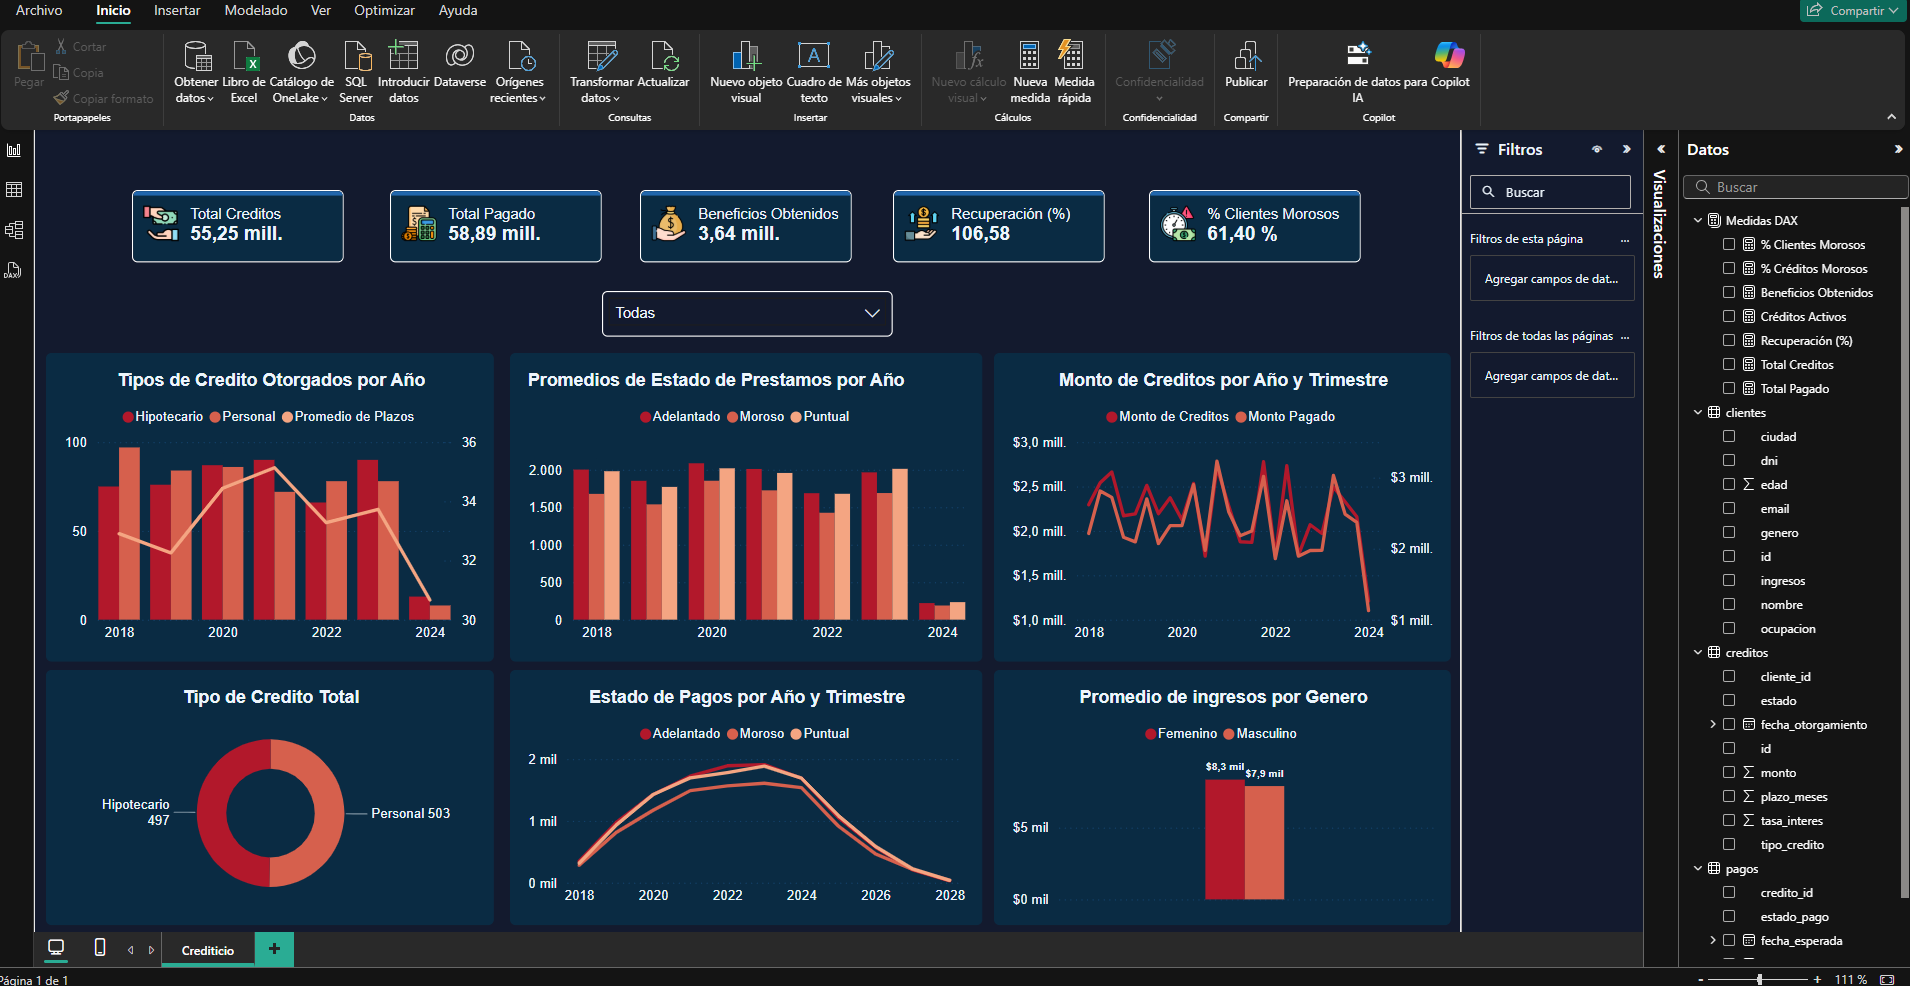

The page's visual inventory and layout, read from the dashboard file:
{"tool":"powerbi","page":{"name":"Página 1","canvas":[1280,720],"ordinal":0},"visuals":[{"type":"lineChart","fields":{"Category":["creditos.fecha_otorgamiento.Variación.Jerarquía de fechas.Año","creditos.fecha_otorgamiento.Variación.Jerarquía de fechas.Trimestre","creditos.fecha_otorgamiento.Variación.Jerarquía de fechas.Mes","creditos.fecha_otorgamiento.Variación.Jerarquía de fechas.Día"],"Y":["Sum(creditos.monto)"]},"box":[495,478,567,242],"z":0},{"type":"card","fields":{"Values":["CountNonNull(creditos.id)"]},"box":[476,0,243,102],"z":1},{"type":"card","fields":{"Values":["CountNonNull(clientes.id)"]},"box":[263,0,213,102],"z":2},{"type":"card","fields":{"Values":["Sum(creditos.monto)"]},"box":[0,0,263,102],"z":3},{"type":"donutChart","fields":{"Y":["CountNonNull(creditos.estado)"]},"box":[902,184,344,192],"z":4},{"type":"clusteredColumnChart","fields":{"Series":["creditos.tipo_credito"],"Category":["creditos.fecha_otorgamiento.Variación.Jerarquía de fechas.Año","creditos.fecha_otorgamiento.Variación.Jerarquía de fechas.Trimestre","creditos.fecha_otorgamiento.Variación.Jerarquía de fechas.Mes","creditos.fecha_otorgamiento.Variación.Jerarquía de fechas.Día"],"Y":["CountNonNull(creditos.tipo_credito)"]},"box":[0,478,495,242],"z":5},{"type":"lineChart","fields":{"Category":["pagos.fecha_pago.Variación.Jerarquía de fechas.Año","pagos.fecha_pago.Variación.Jerarquía de fechas.Trimestre","pagos.fecha_pago.Variación.Jerarquía de fechas.Mes","pagos.fecha_pago.Variación.Jerarquía de fechas.Día"],"Y":["CountNonNull(pagos.estado_pago)"],"Series":["pagos.estado_pago"]},"box":[0,68,495,205],"z":6},{"type":"card","fields":{"Values":["Sum(pagos.monto_pagado)"]},"box":[719,0,266,102],"z":7},{"type":"clusteredColumnChart","fields":{"Category":["creditos.fecha_otorgamiento.Variación.Jerarquía de fechas.Año","creditos.fecha_otorgamiento.Variación.Jerarquía de fechas.Trimestre","creditos.fecha_otorgamiento.Variación.Jerarquía de fechas.Mes","creditos.fecha_otorgamiento.Variación.Jerarquía de fechas.Día"],"Y":["CountNonNull(pagos.estado_pago)"],"Series":["pagos.estado_pago"]},"box":[0,273,495,205],"z":8}]}

Visuals, with their boxes on the page's 1280x720 design canvas (x1, y1, x2, y2). These are canvas units, not pixel positions in the 1910x986 screenshot, which may show the page scaled, cropped or inside an application window:
lineChart - creditos.fecha_otorgamiento.Variación.Jerarquía de fechas.Año x creditos.fecha_otorgamiento.Variación.Jerarquía de fechas.Trimestre: <region>495, 478, 1062, 720</region>
card - CountNonNull(creditos.id): <region>476, 0, 719, 102</region>
card - CountNonNull(clientes.id): <region>263, 0, 476, 102</region>
card - Sum(creditos.monto): <region>0, 0, 263, 102</region>
donutChart - CountNonNull(creditos.estado): <region>902, 184, 1246, 376</region>
clusteredColumnChart - creditos.tipo_credito x creditos.fecha_otorgamiento.Variación.Jerarquía de fechas.Año: <region>0, 478, 495, 720</region>
lineChart - pagos.fecha_pago.Variación.Jerarquía de fechas.Año x pagos.fecha_pago.Variación.Jerarquía de fechas.Trimestre: <region>0, 68, 495, 273</region>
card - Sum(pagos.monto_pagado): <region>719, 0, 985, 102</region>
clusteredColumnChart - creditos.fecha_otorgamiento.Variación.Jerarquía de fechas.Año x creditos.fecha_otorgamiento.Variación.Jerarquía de fechas.Trimestre: <region>0, 273, 495, 478</region>
